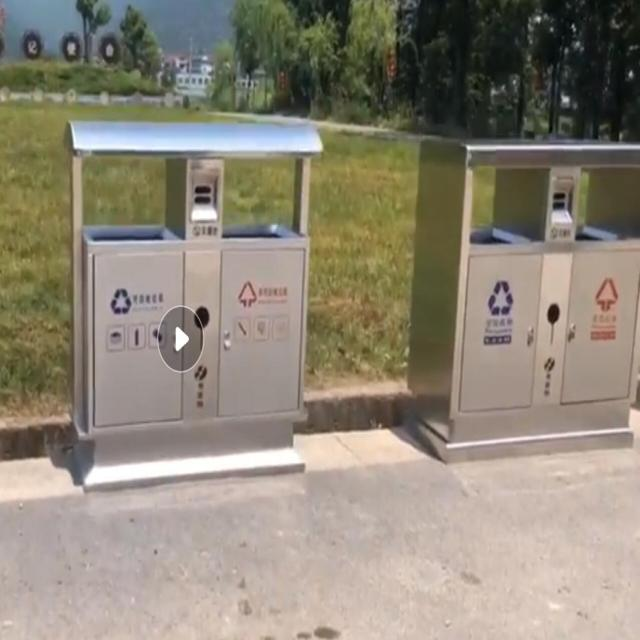ash bin: (52, 109, 326, 485), (410, 128, 640, 468)
